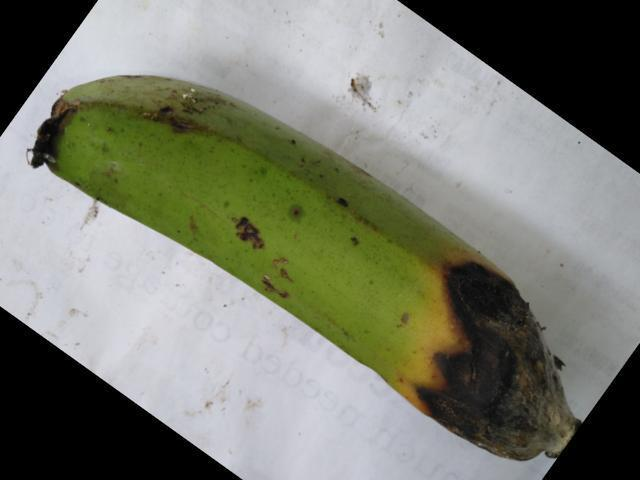rotten: (387, 231, 624, 464), (17, 65, 93, 181), (214, 174, 278, 256)
